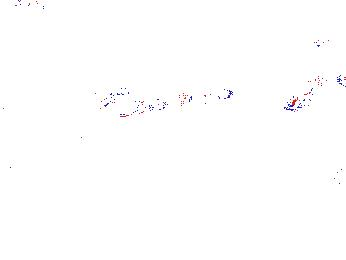X-ray fish: (285, 138, 321, 166), (282, 37, 319, 56), (328, 163, 346, 186)
glassfish: (197, 122, 296, 186), (1, 83, 73, 138)
red belly glassfish: (310, 36, 346, 51)
redtail glassfish: (282, 67, 346, 113), (94, 88, 169, 113), (180, 86, 234, 111)
